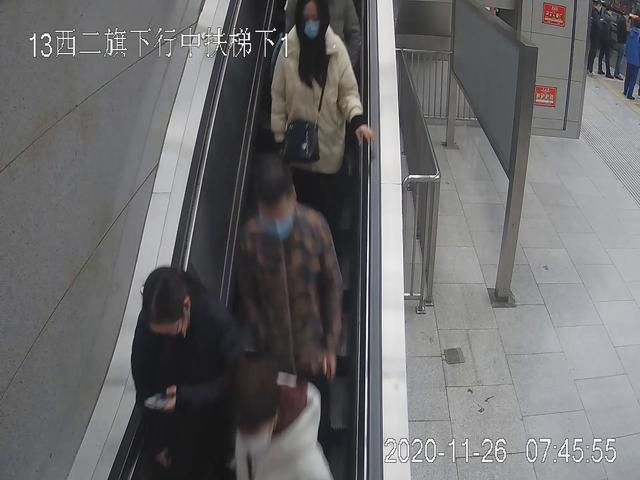person: (238, 160, 343, 480), (268, 1, 374, 260), (131, 268, 251, 480), (595, 4, 617, 78), (622, 23, 640, 100)
